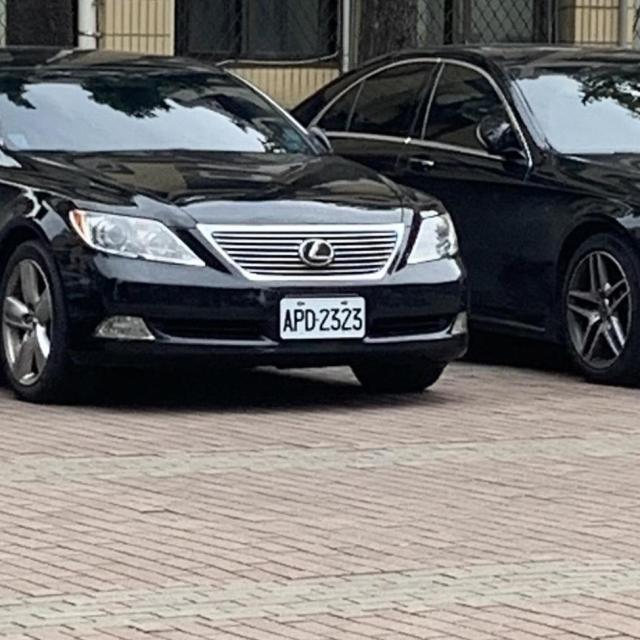W: (268, 294, 368, 344)
